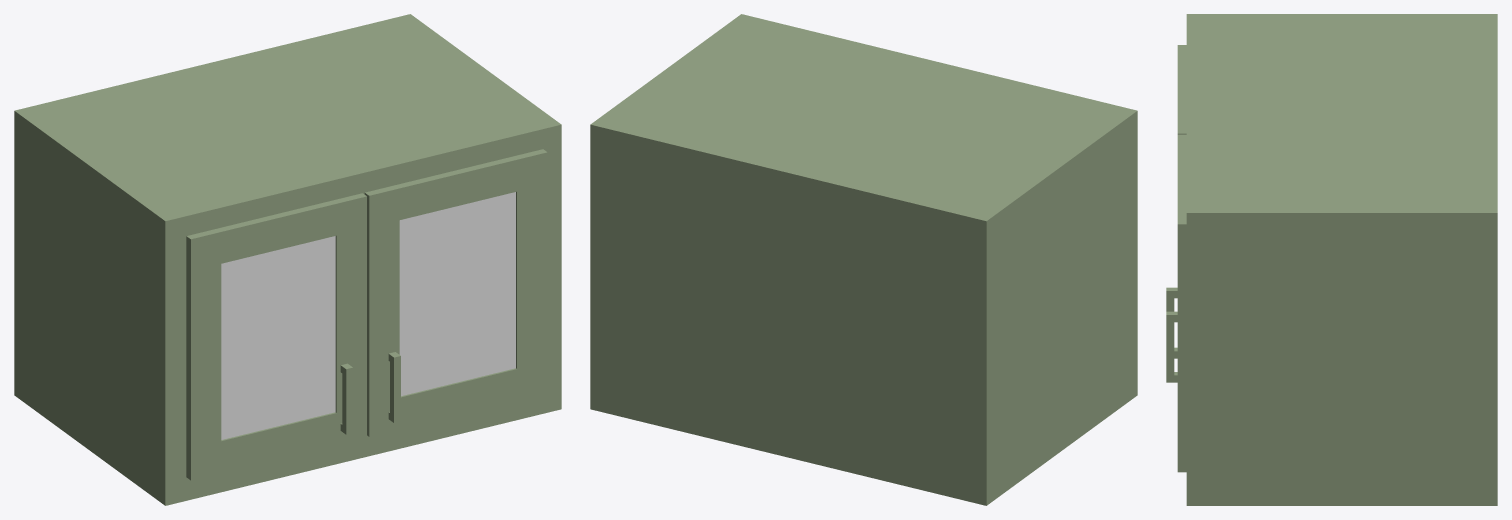
Rendered from KitchenCounter_01_GlassTop.fbx.
3 views of the same model, side by side, from view 1: azimuth 30°, elevation 25°; view 2: azimuth 150°, elevation 25°; view 3: azimuth 270°, elevation 25° (orthographic). The views are drawn at different scales.
Parts seen in each view (by area): view 1: KitchenCounter_01_GlassTop, KitchenCounter_01_GlassTop_Door_R, KitchenCounter_01_GlassTop_Door_L; view 2: KitchenCounter_01_GlassTop; view 3: KitchenCounter_01_GlassTop, KitchenCounter_01_GlassTop_Door_R, KitchenCounter_01_GlassTop_Door_L.
Part boxes in pixels (left/top/right/bottom): KitchenCounter_01_GlassTop: left=14, top=14, right=561, bottom=505; KitchenCounter_01_GlassTop_Door_R: left=364, top=149, right=547, bottom=436; KitchenCounter_01_GlassTop_Door_L: left=186, top=193, right=366, bottom=480; KitchenCounter_01_GlassTop: left=590, top=14, right=1137, bottom=505; KitchenCounter_01_GlassTop: left=1186, top=14, right=1497, bottom=505; KitchenCounter_01_GlassTop_Door_R: left=1166, top=134, right=1186, bottom=472; KitchenCounter_01_GlassTop_Door_L: left=1166, top=45, right=1186, bottom=358.
Bounding box in the file's own units: 1 × 0.6866 × 0.7037.
